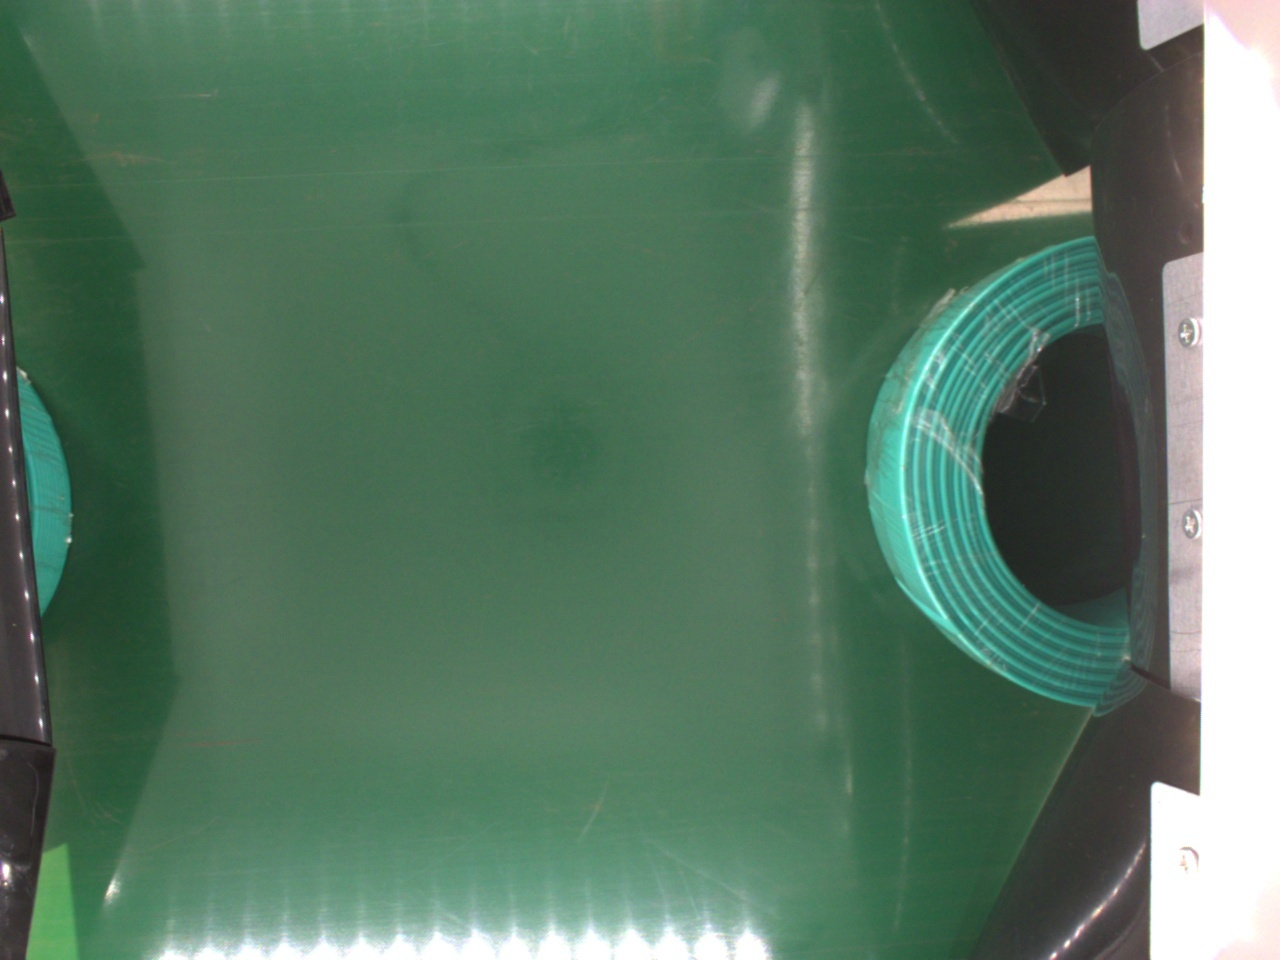green: (863, 235, 1139, 709)
